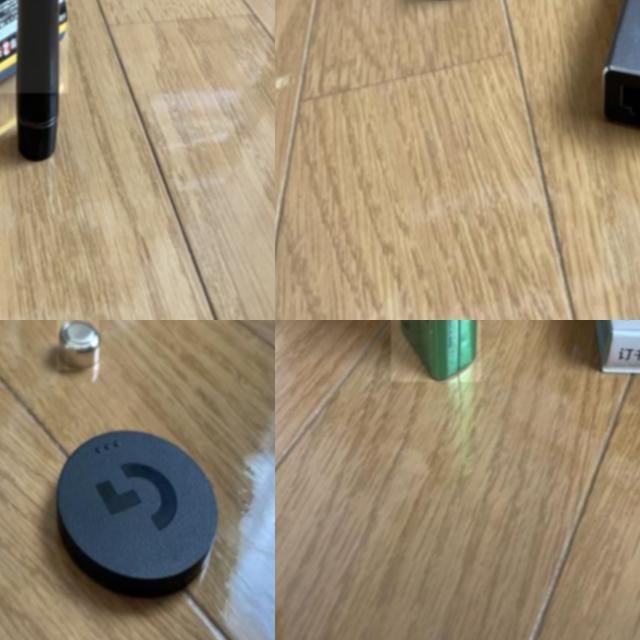9V: (391, 320, 481, 382)
